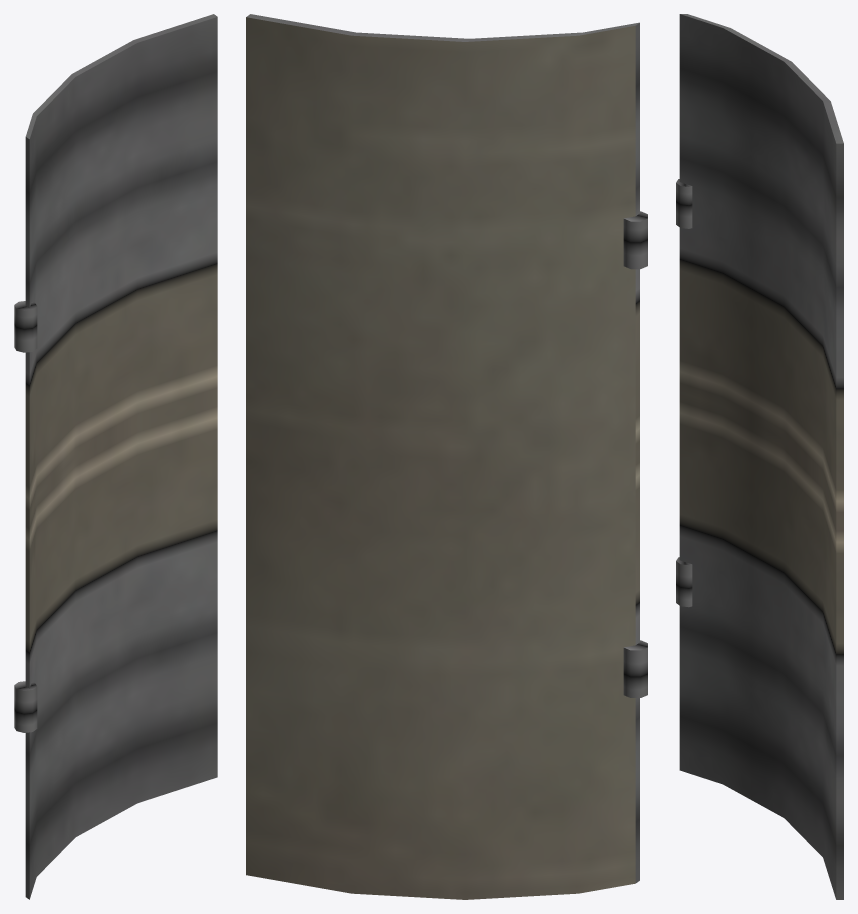
Rendered from 1door.obj.
3 renders of one model, left to right at view 1: azimuth 30°, elevation 25°; view 2: azimuth 150°, elevation 25°; view 3: azimuth 270°, elevation 25°, orthographic. The views are drawn at different scales.
Visible parts, largest first — view 1: 1door; view 2: 1doorshell, 1door; view 3: 1door.
Boxes of the visible parts, left/top/right/bottom form: 1door: left=14, top=14, right=217, bottom=899; 1doorshell: left=246, top=17, right=635, bottom=899; 1door: left=246, top=14, right=647, bottom=883; 1door: left=676, top=14, right=843, bottom=899.
Size of the model in its own units: 1.03 by 2.7 by 0.5432.
